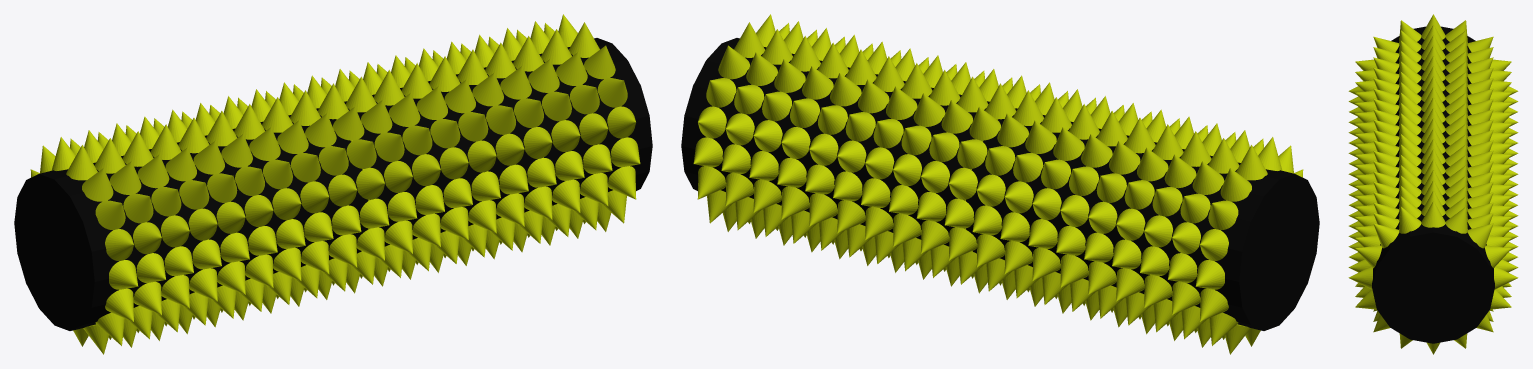
Rendered from SpikePillar.obj.
3 views of the same model, side by side, from view 1: azimuth 30°, elevation 25°; view 2: azimuth 150°, elevation 25°; view 3: azimuth 270°, elevation 25° (orthographic). The views are drawn at different scales.
Parts seen in each view (by area): view 1: Cylinder.002_Cylinder.002_Material.007, Cylinder.002_Cylinder.002_Material.006; view 2: Cylinder.002_Cylinder.002_Material.007, Cylinder.002_Cylinder.002_Material.006; view 3: Cylinder.002_Cylinder.002_Material.007, Cylinder.002_Cylinder.002_Material.006.
Boxes of the visible parts, bbox=[...] form: Cylinder.002_Cylinder.002_Material.007: bbox=[30, 14, 640, 354]; Cylinder.002_Cylinder.002_Material.006: bbox=[14, 38, 652, 330]; Cylinder.002_Cylinder.002_Material.007: bbox=[693, 14, 1303, 354]; Cylinder.002_Cylinder.002_Material.006: bbox=[681, 38, 1319, 330]; Cylinder.002_Cylinder.002_Material.007: bbox=[1348, 14, 1518, 354]; Cylinder.002_Cylinder.002_Material.006: bbox=[1372, 26, 1494, 343].
Size of the model in its own units: 4 by 1.39 by 1.39.
